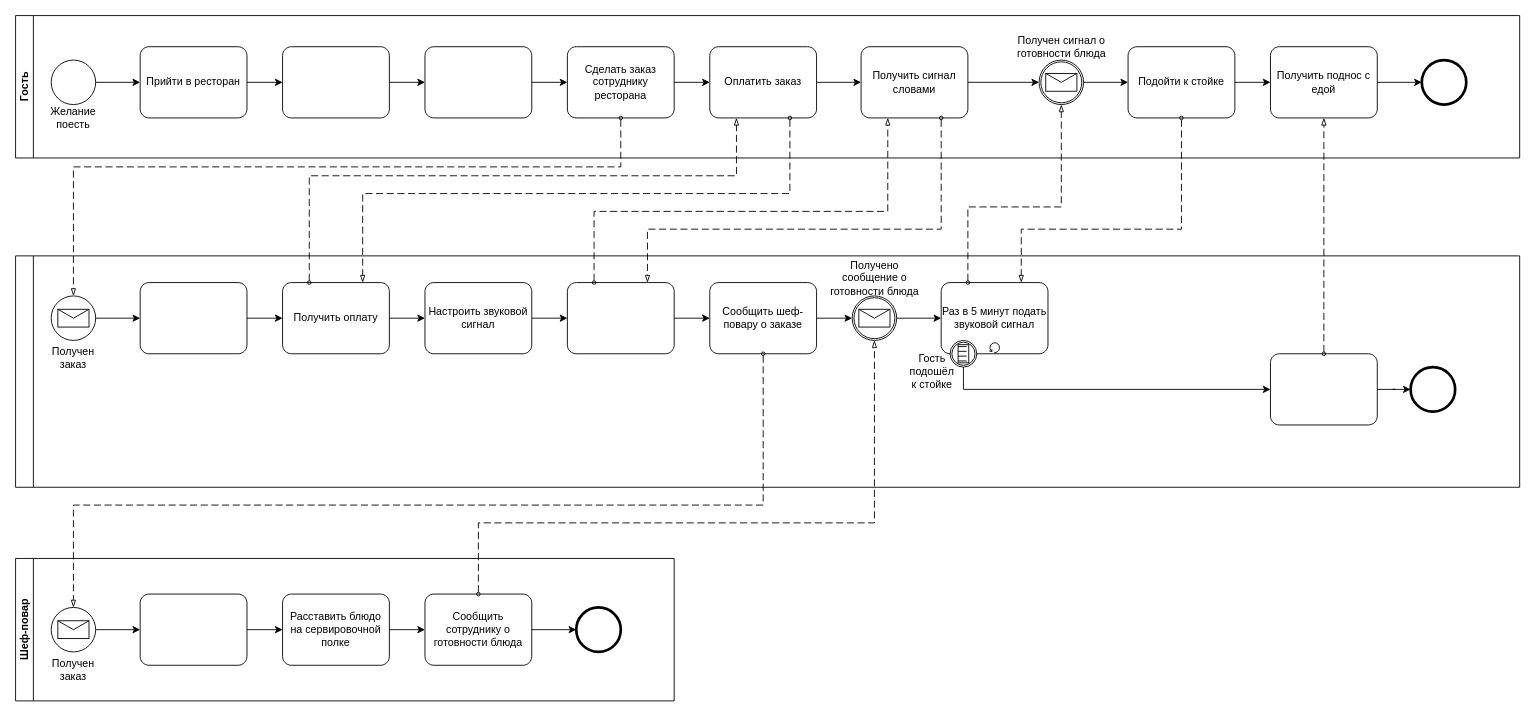
This 1535x716 diagram has some shape labels left out. The box of each missing label's shape, as (x1, y1, x2, y2) in pixels:
Ввести заказ в систему POS-кассы: (139, 282, 247, 354)
Выбрать блюдо: (282, 46, 389, 118)
Передать гостю поднос с едой: (1270, 353, 1377, 425)
Передать сигнал словами гостю: (566, 282, 674, 354)
Подождать своей очереди: (424, 46, 532, 118)
Приготовить блюдо: (139, 593, 247, 665)
Сотрудник: (15, 255, 1520, 487)
